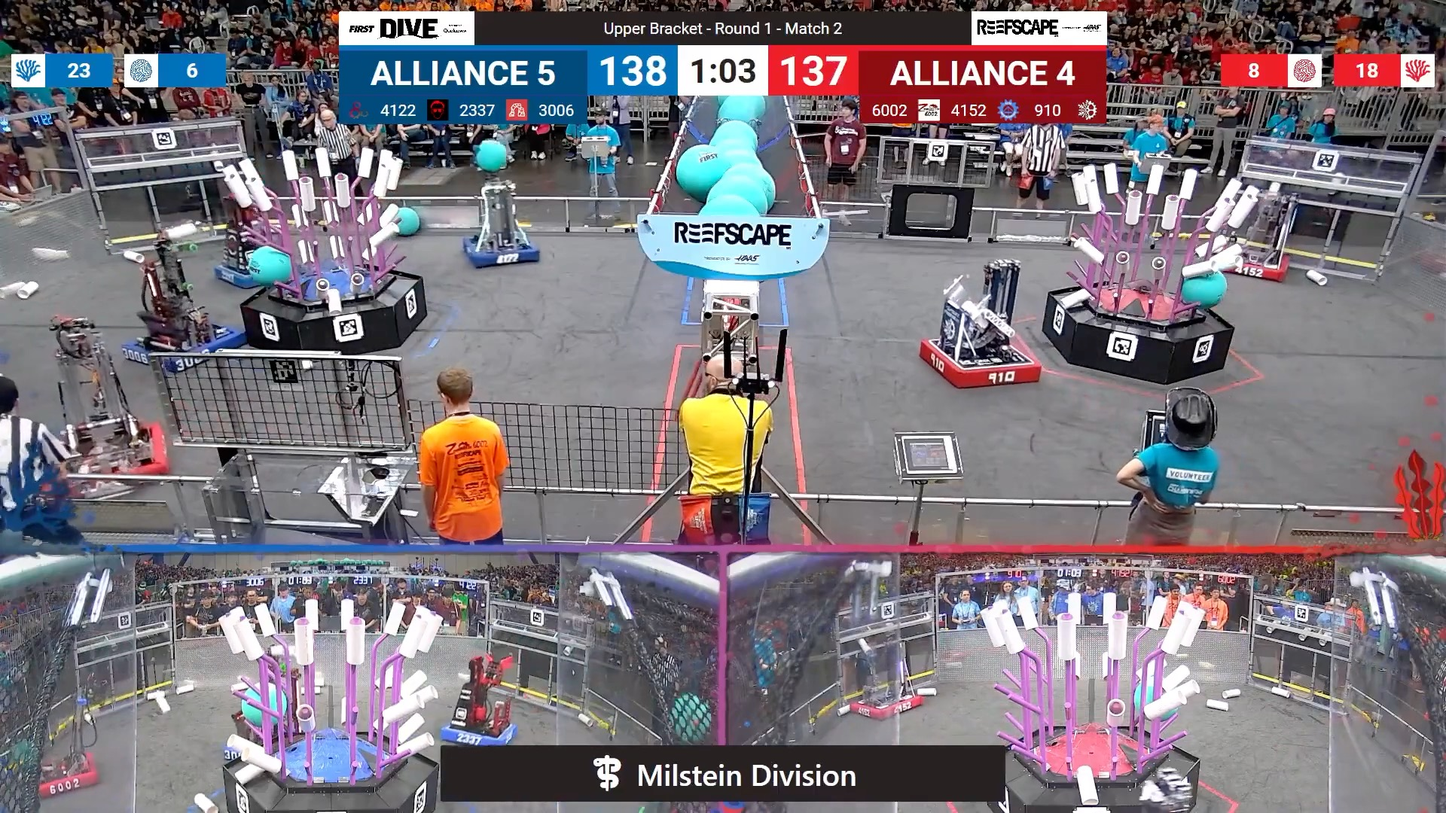bumpers: (41, 416, 174, 495), (914, 333, 1048, 394), (112, 320, 246, 376), (39, 744, 105, 800), (454, 232, 543, 270), (1215, 244, 1298, 284), (432, 715, 524, 750), (844, 687, 931, 722)
